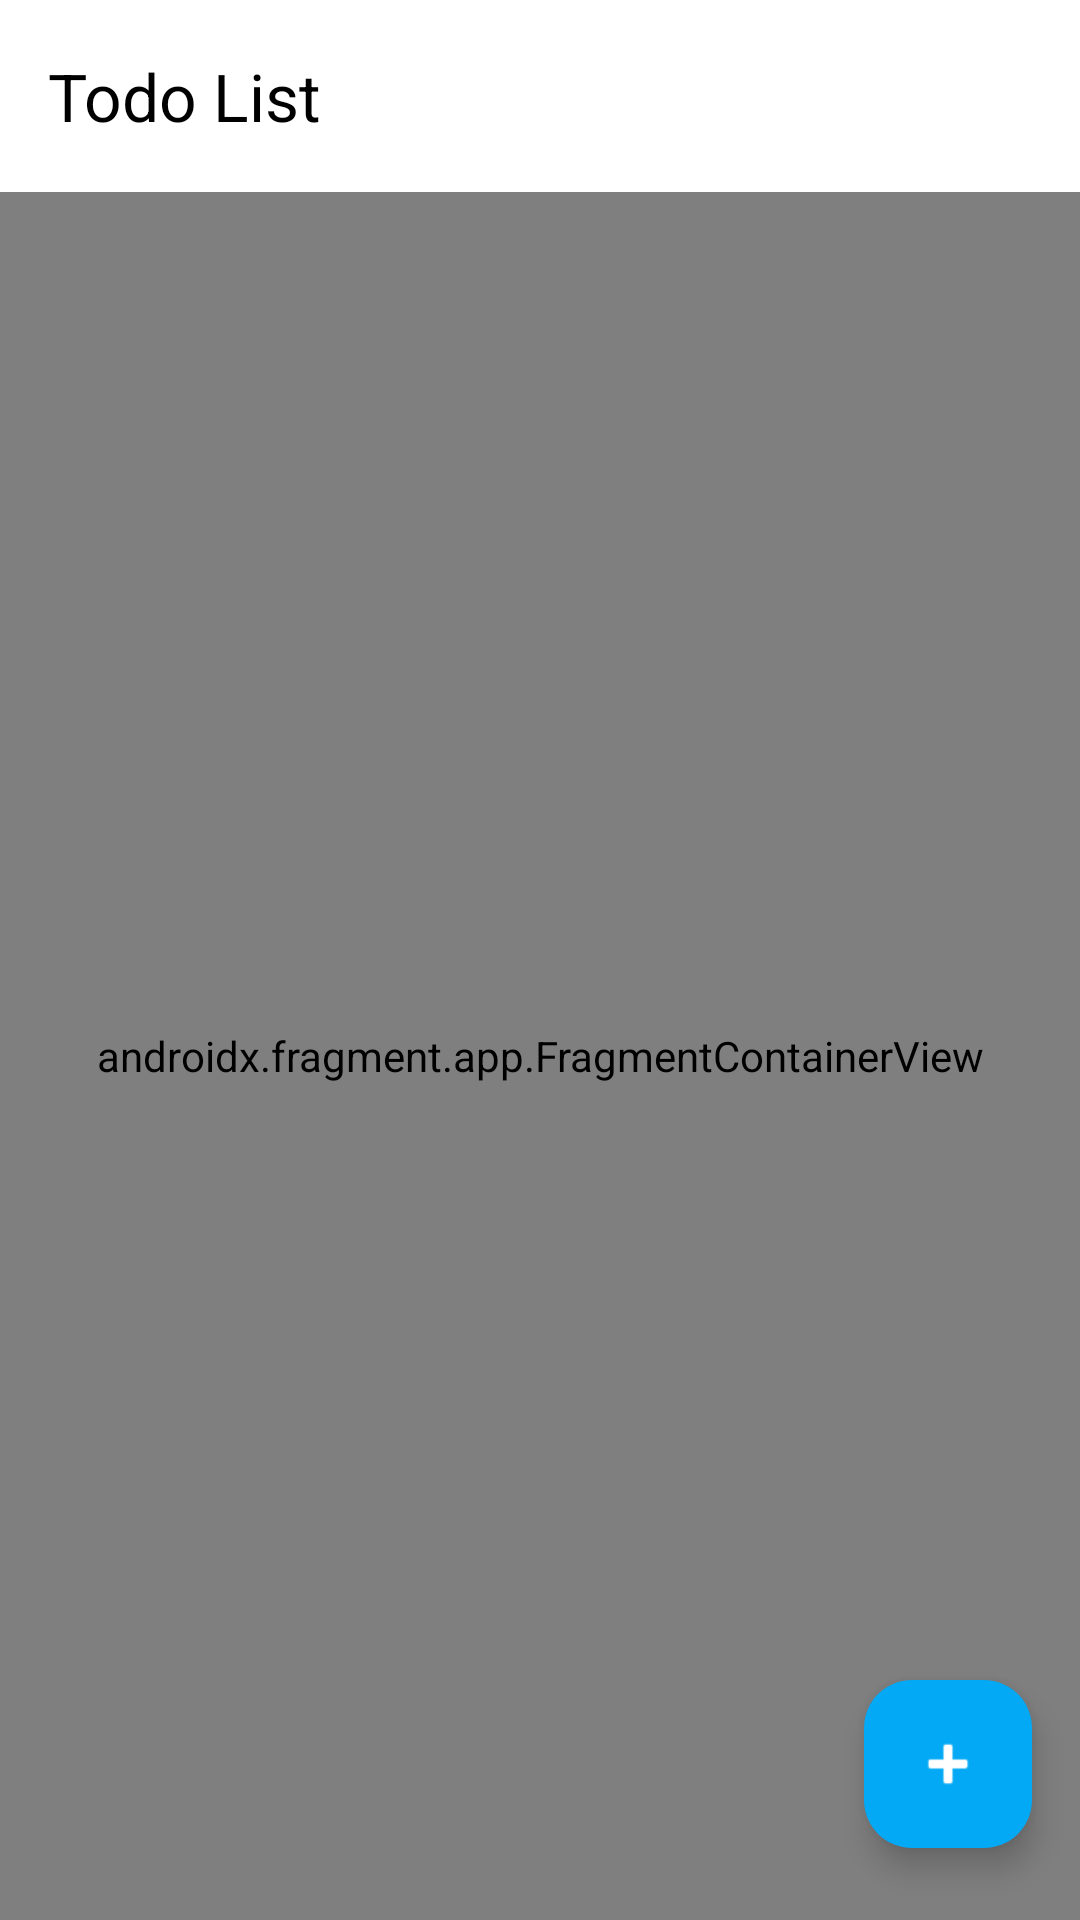

Where icons sit on this 1080px x 1920px app screen, as bbox=(x1, y1, x2, y2):
add: bbox=(864, 1680, 1032, 1848)
